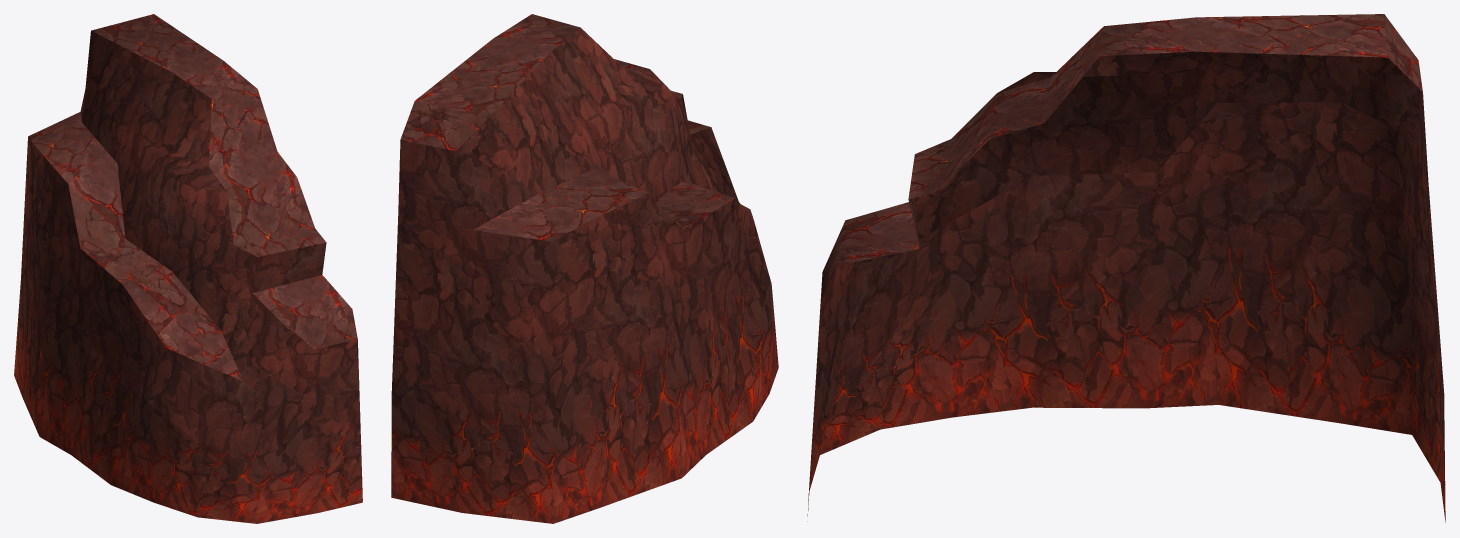
The model's file is Dragon_Wall_01.FBX.
3 views of the same model, side by side, from view 1: azimuth 30°, elevation 25°; view 2: azimuth 150°, elevation 25°; view 3: azimuth 270°, elevation 25° (orthographic). The views are drawn at different scales.
Parts seen in each view (by area): view 1: Dragon_Wall_01_02, Dragon_Wall_01_03, Dragon_Wall_01_01; view 2: Dragon_Wall_01_02, Dragon_Wall_01_01, Dragon_Wall_01_03; view 3: Dragon_Wall_01_02, Dragon_Wall_01_01, Dragon_Wall_01_03.
Part boxes in pixels (x1,y1,x2,y2): Dragon_Wall_01_02: (21, 31, 360, 452); Dragon_Wall_01_03: (28, 14, 357, 380); Dragon_Wall_01_01: (14, 276, 362, 523); Dragon_Wall_01_02: (392, 27, 771, 414); Dragon_Wall_01_01: (391, 284, 778, 523); Dragon_Wall_01_03: (400, 14, 753, 241); Dragon_Wall_01_02: (814, 51, 1443, 411); Dragon_Wall_01_01: (807, 246, 1445, 522); Dragon_Wall_01_03: (821, 14, 1422, 301).
Bounding box in the file's own units: 13.1 × 24.27 × 29.72.
